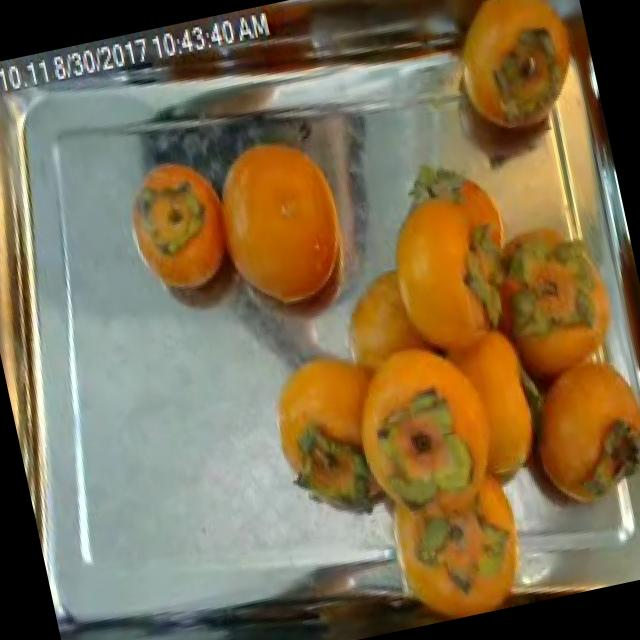Fruit: (188, 101, 370, 349), (106, 136, 258, 324)
